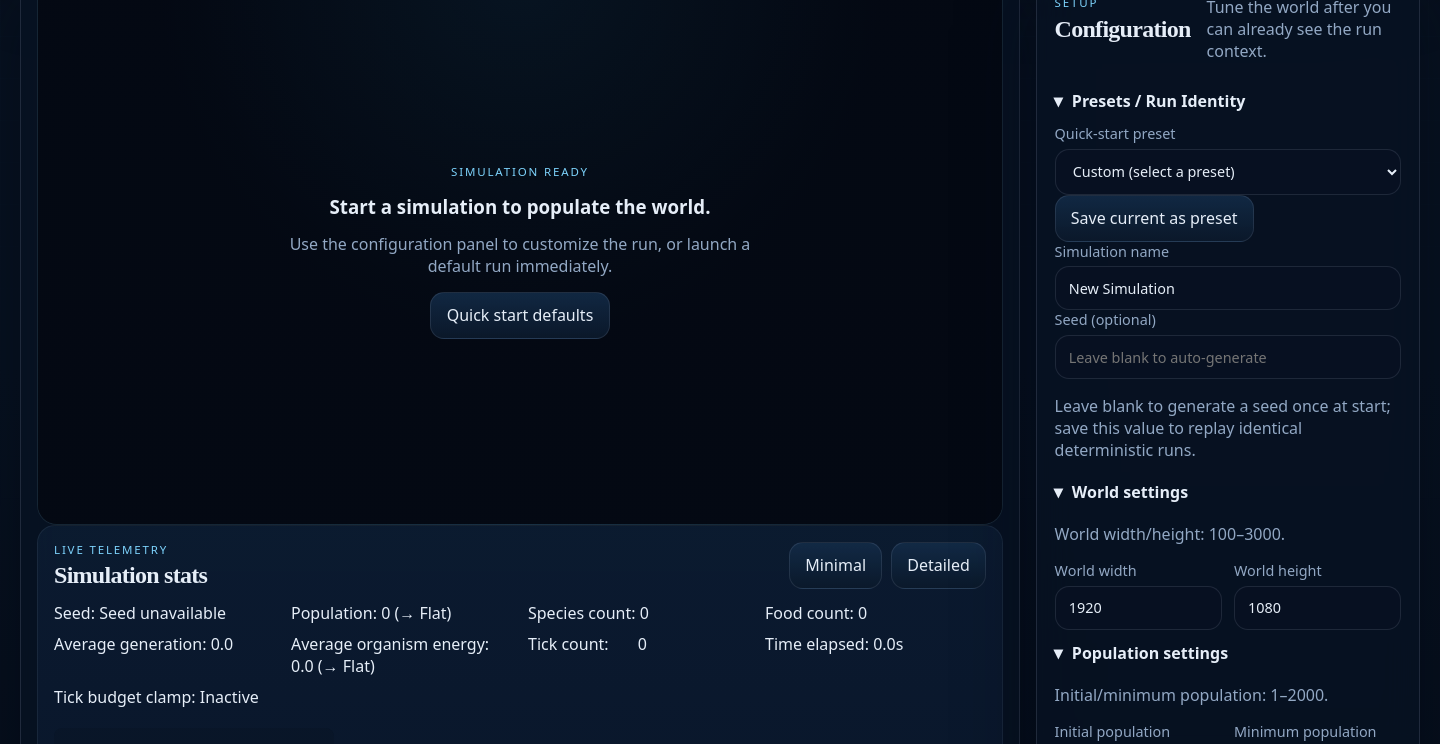
Scenario: App › prompts before discarding dirty run changes when starting or loading another simulation
The image size is (1440, 744).
(page scrolled)
Type "dirty-run-seed" into the field labelled "Seed (optional)".
click(1228, 357); type("dirty-run-seed")  # box x1=1055 y1=335 x2=1401 y2=379
(page scrolled)
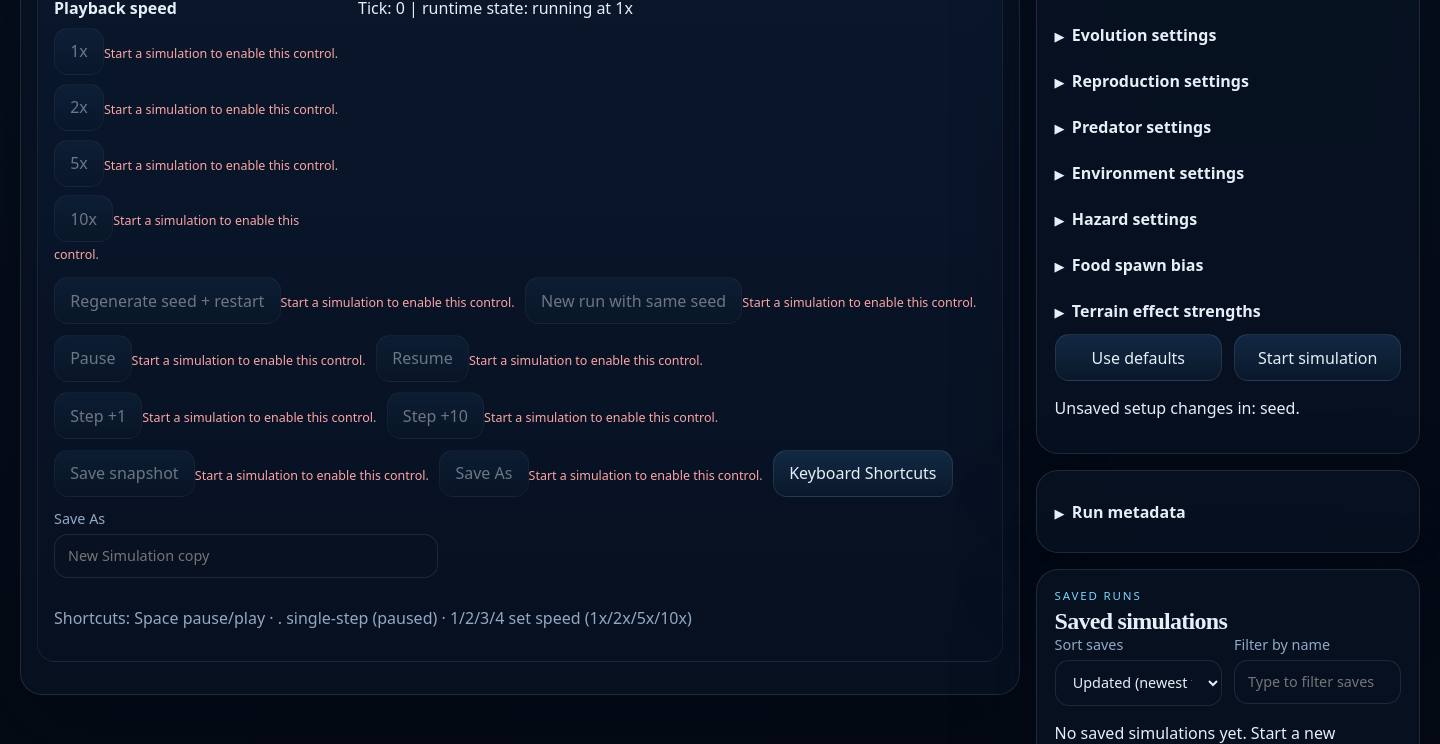
Click the button "Start simulation".
click(1318, 358)  # box x1=1234 y1=334 x2=1401 y2=381
(page scrolled)
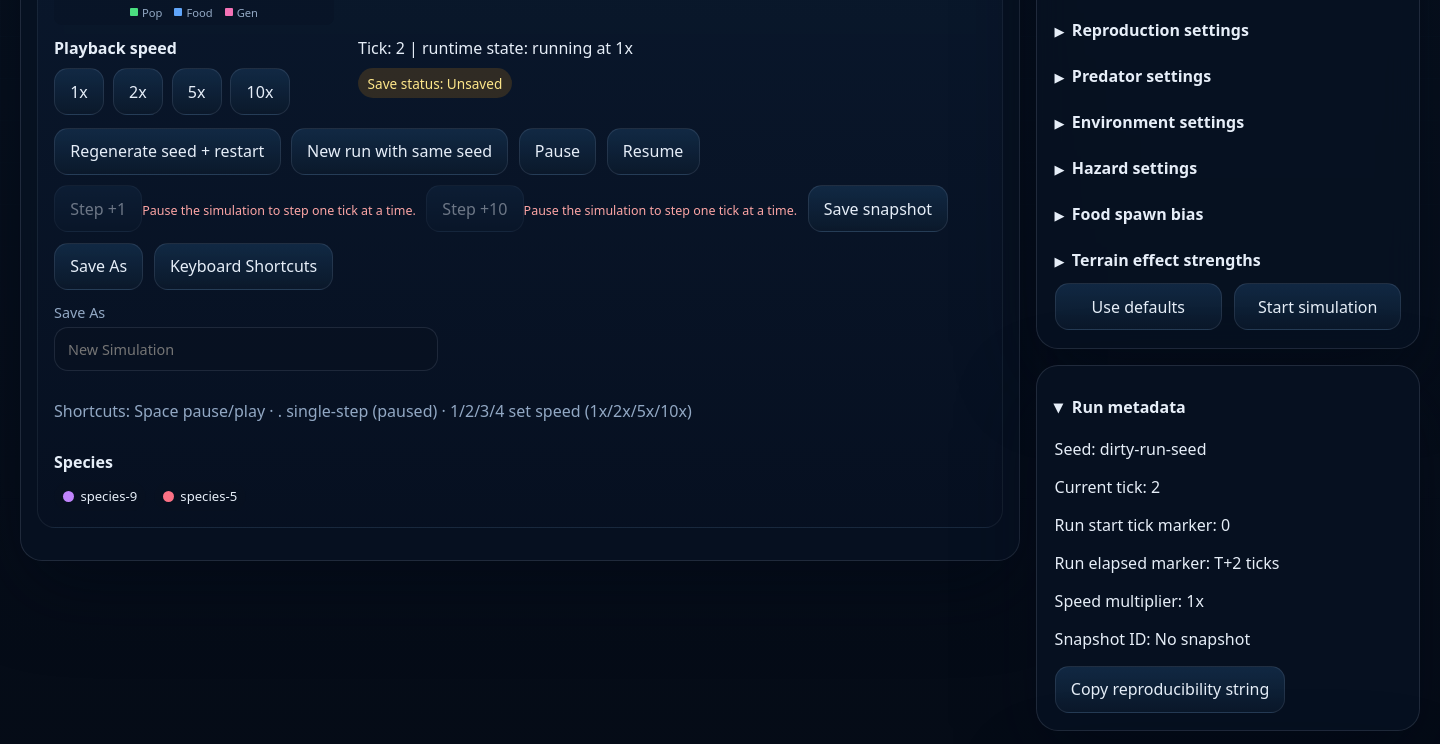
Click the button "Start simulation".
click(1318, 307)  # box x1=1234 y1=283 x2=1401 y2=330
(page scrolled)
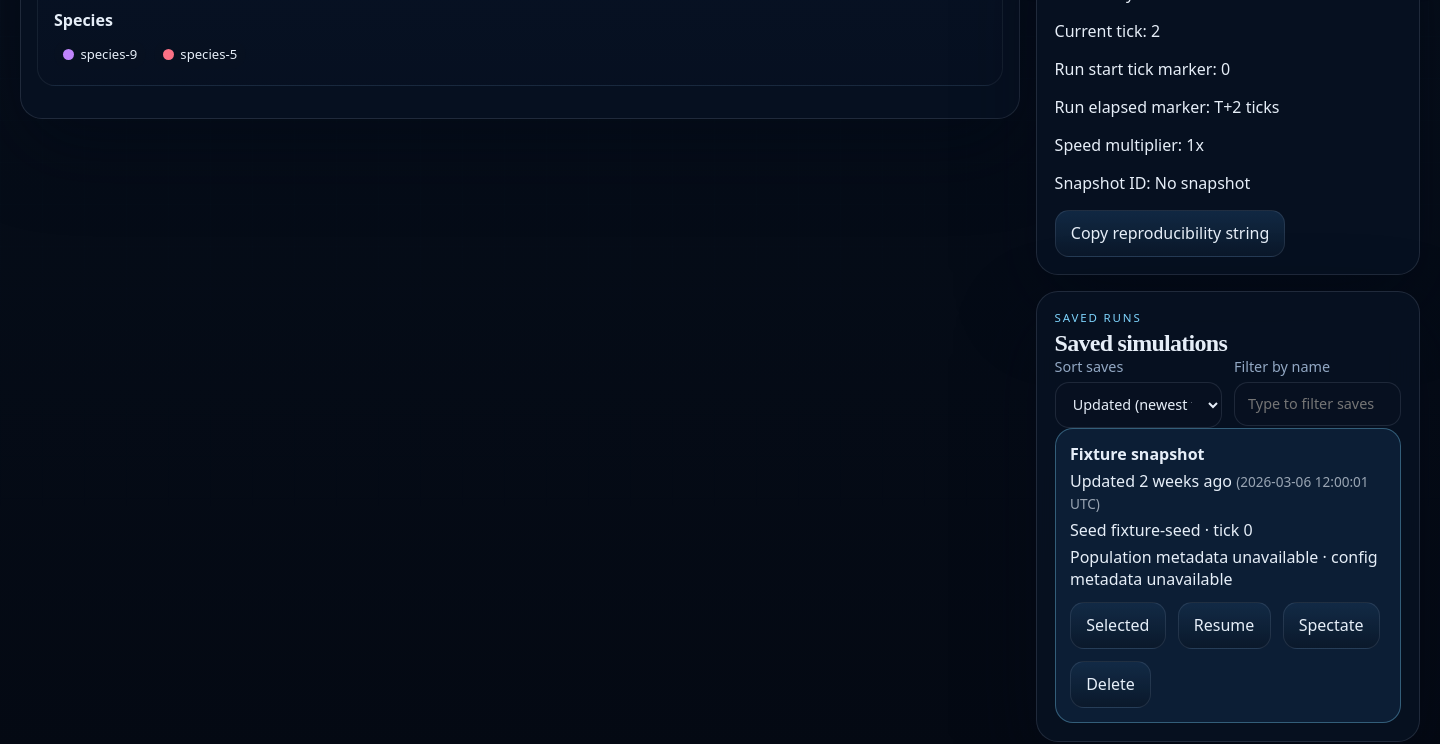
Click the button "Resume".
click(1224, 625)  # box x1=1178 y1=602 x2=1270 y2=649
(page scrolled)
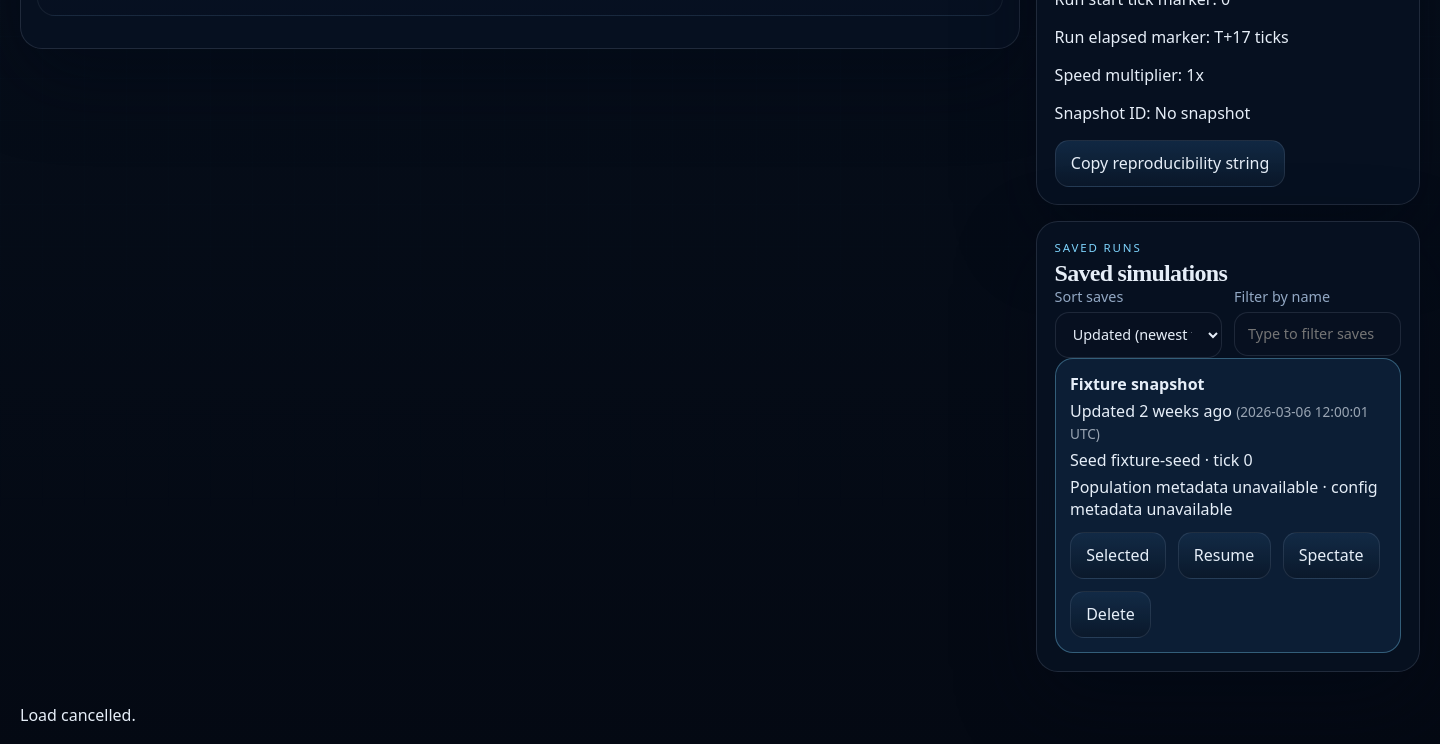
Result: the text "Load cancelled." is shown at x1=20 y1=704 x2=136 y2=726
